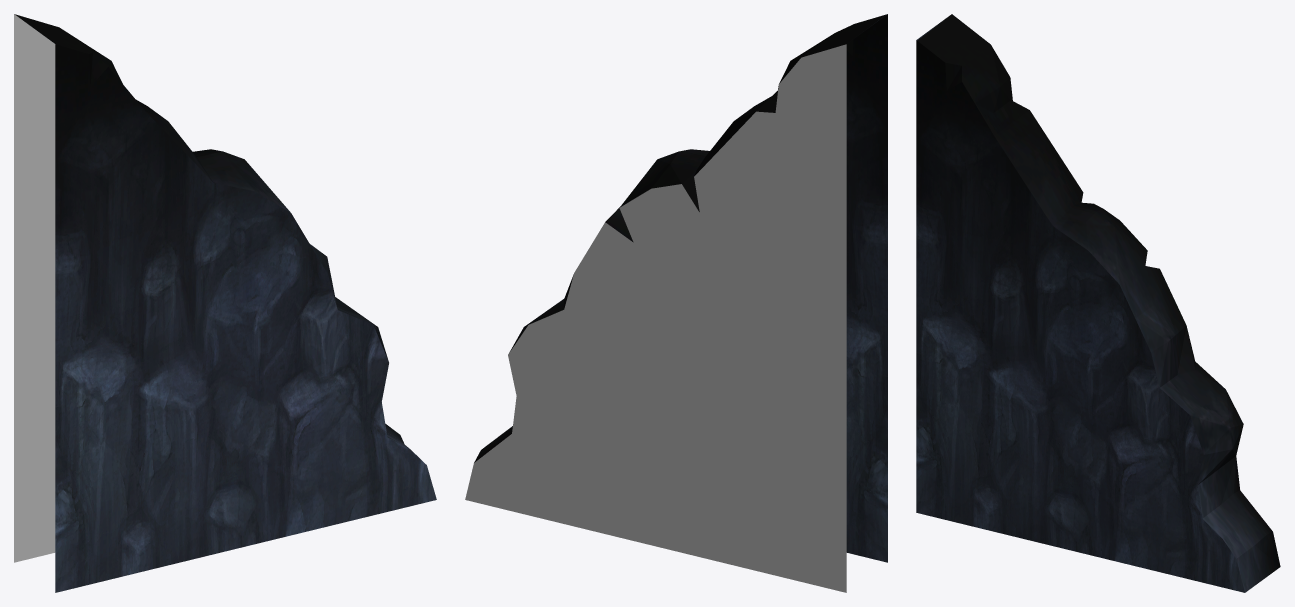
Rendered from mine_fade_transition_07.fbx.
3 views of the same model, side by side, from view 1: azimuth 30°, elevation 25°; view 2: azimuth 150°, elevation 25°; view 3: azimuth 330°, elevation 25° (orthographic). The views are drawn at different scales.
Visible parts, largest first — view 1: obj2.016; view 2: obj2.016; view 3: obj2.016.
Part boxes in pixels (x1,y1,x2,y2): obj2.016: (14,14,436,592); obj2.016: (465,14,887,592); obj2.016: (916,14,1280,592).
Size of the model in its own units: 4 by 5.5 by 0.75.
